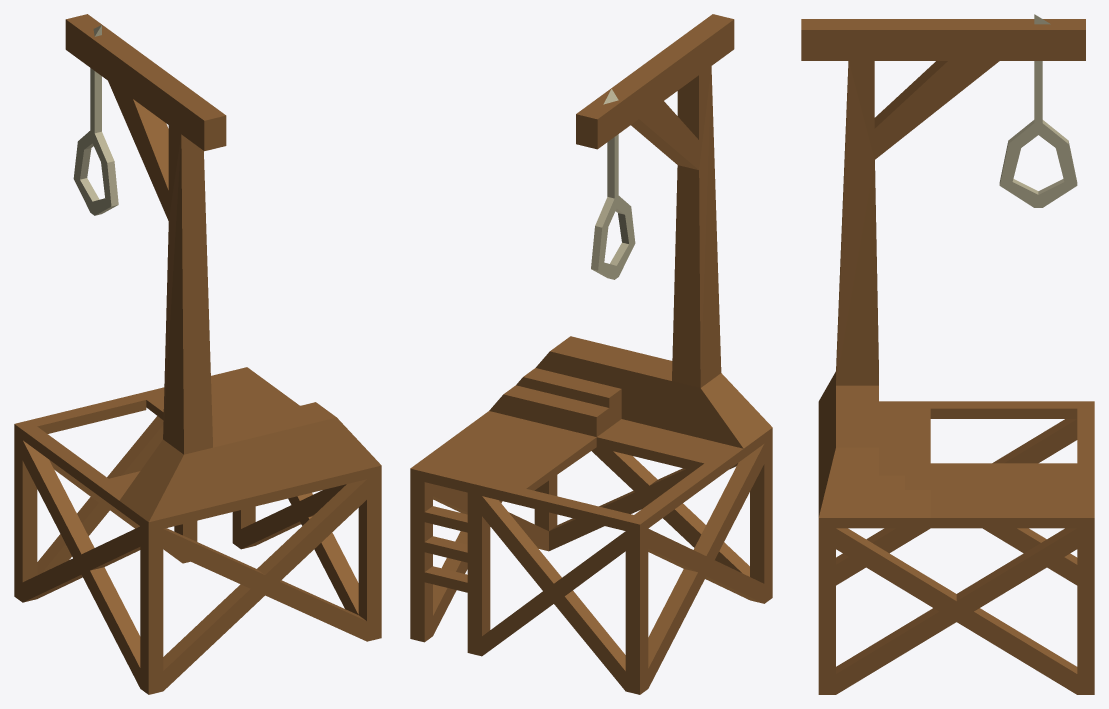
The model's file is obj_gallows_0.obj.
The picture shows the model from 3 angles, left to right: view 1: azimuth 30°, elevation 25°; view 2: azimuth 150°, elevation 25°; view 3: azimuth 270°, elevation 25°; orthographic projection. The views are drawn at different scales.
Size of the model in its own units: 1.5 by 3.56 by 1.59.
